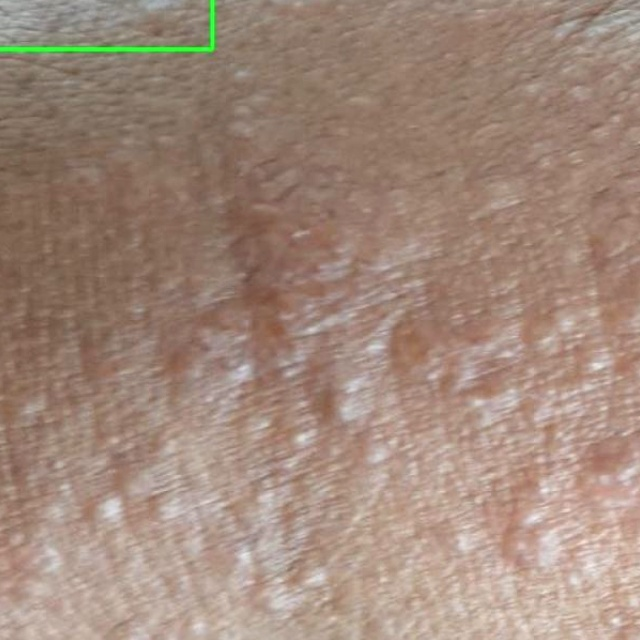Seborrheic Dermatitis: (0, 0, 212, 49)
